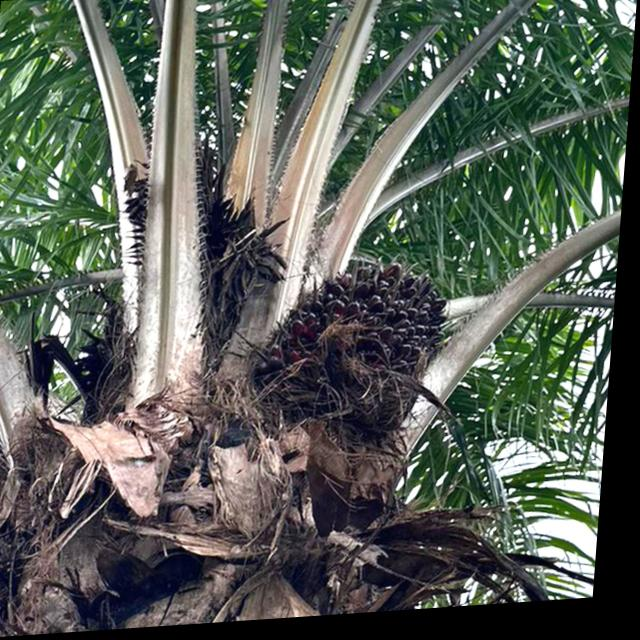almost: (239, 254, 465, 459)
